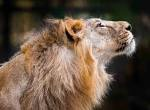lion: (2, 14, 141, 110)
